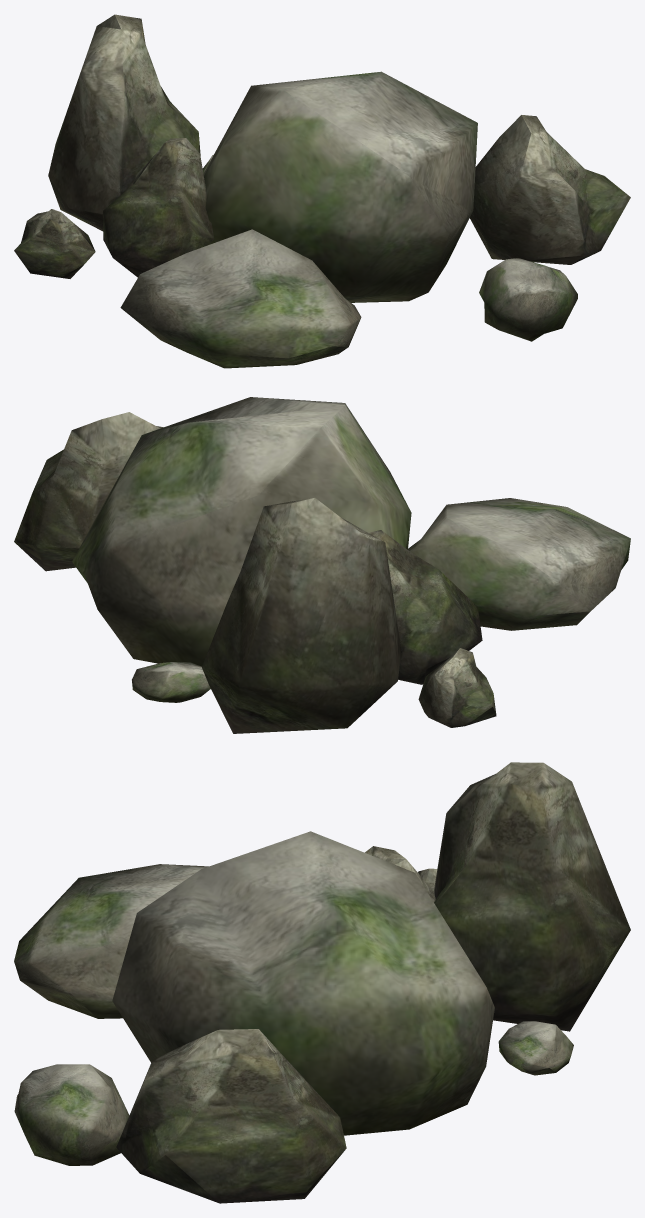
Rendered from zz_dont_use_rocks_LT_group_2F.fbx.
The picture shows the model from 3 angles, top to bottom: view 1: azimuth 30°, elevation 25°; view 2: azimuth 150°, elevation 25°; view 3: azimuth 270°, elevation 25°; orthographic projection. The views are drawn at different scales.
Parts seen in each view (by area): view 1: rock_2, rock_9, rock_10, rock_6, rock_1, rock_5, rock_4; view 2: rock_2, rock_10, rock_9, rock_6, rock_1, rock_4, rock_3; view 3: rock_2, rock_10, rock_6, rock_9, rock_5, rock_3, rock_1.
Part boxes in pixels (x1,y1,x2,y2): rock_2: [203, 71, 477, 302]; rock_9: [120, 229, 361, 368]; rock_10: [48, 14, 200, 231]; rock_6: [470, 115, 630, 264]; rock_1: [103, 138, 214, 277]; rock_5: [479, 258, 577, 341]; rock_4: [14, 209, 95, 278]; rock_2: [72, 397, 411, 666]; rock_10: [202, 498, 401, 733]; rock_9: [408, 498, 630, 630]; rock_6: [14, 412, 163, 571]; rock_1: [368, 530, 482, 684]; rock_4: [418, 648, 496, 727]; rock_3: [132, 662, 210, 702]; rock_2: [112, 831, 494, 1135]; rock_10: [433, 762, 630, 1031]; rock_6: [116, 1029, 346, 1203]; rock_9: [14, 864, 208, 1018]; rock_5: [14, 1064, 129, 1165]; rock_3: [498, 1021, 573, 1075]; rock_1: [365, 846, 435, 902].
Size of the model in its own units: 1270 by 568 by 1135.
Materials: 1 (1 with a texture image).
